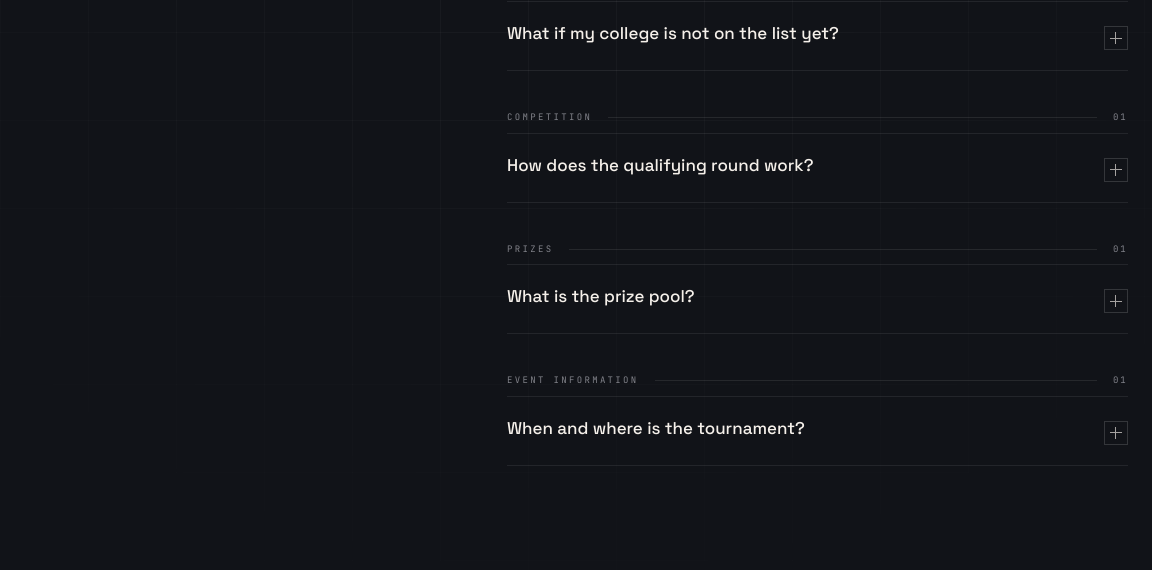
Test: TournamentFAQ › does not claim a date or venue before they are confirmed
The image size is (1152, 570).
(page scrolled)
Click the button "When and where is the tournament?" at (656, 428), box [507, 396, 1128, 464]
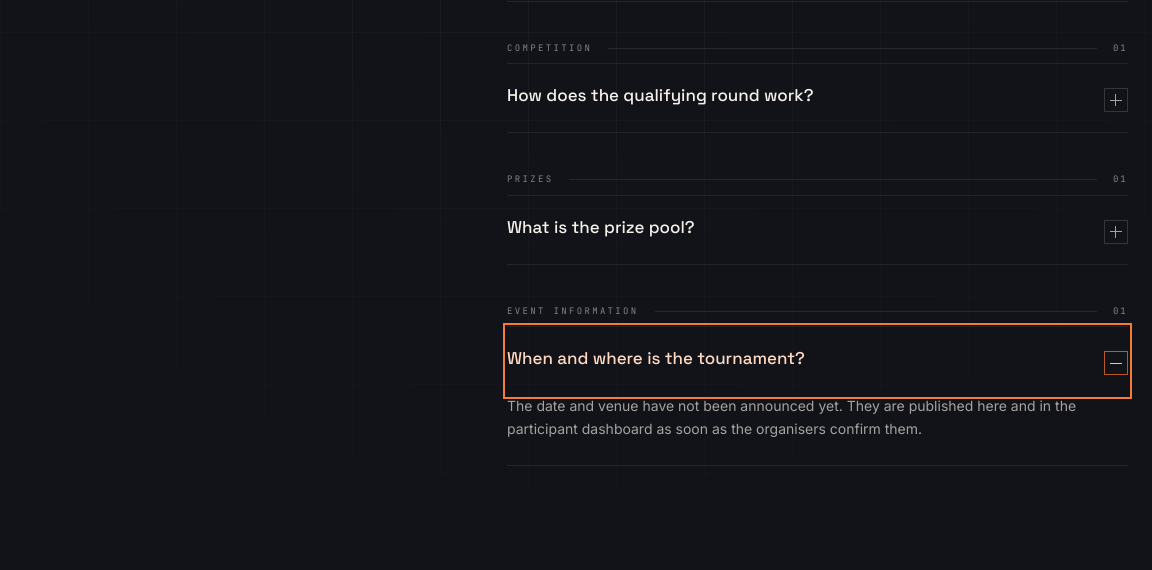
Expected: the text "have not been announced yet" is shown, [507, 397, 1076, 437]
